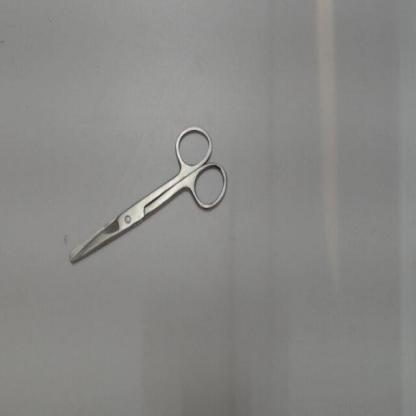Dressing Scissors: (58, 115, 238, 275)
